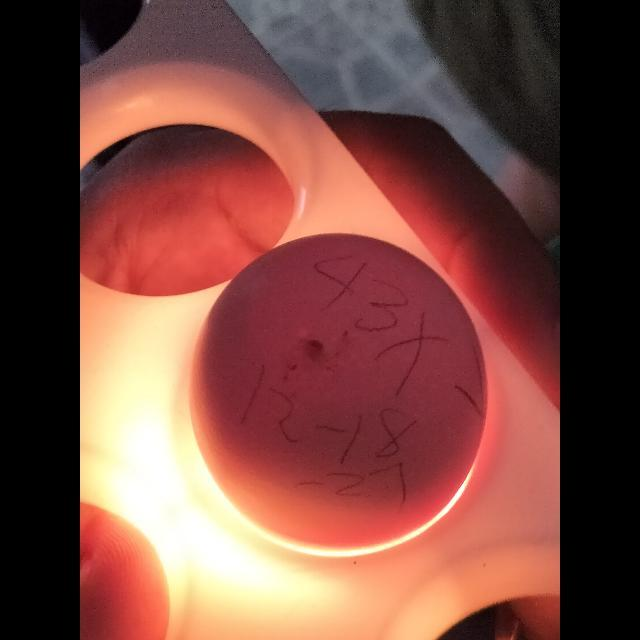Fertile: (202, 236, 483, 546)
